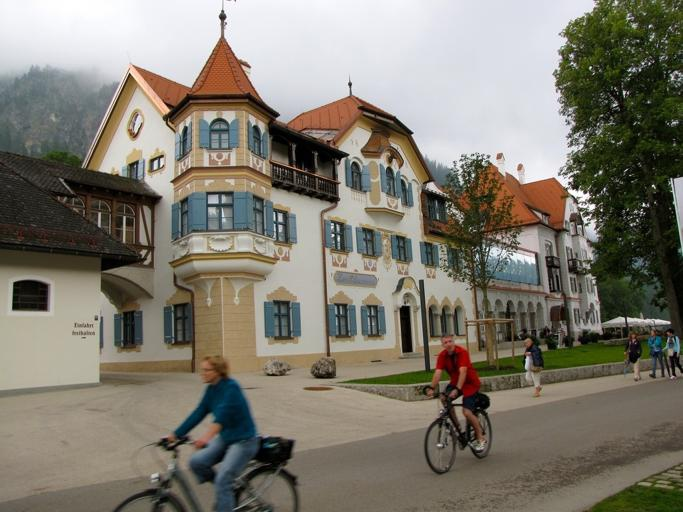non-vehicle: (113, 437, 299, 512), (423, 389, 492, 473)
